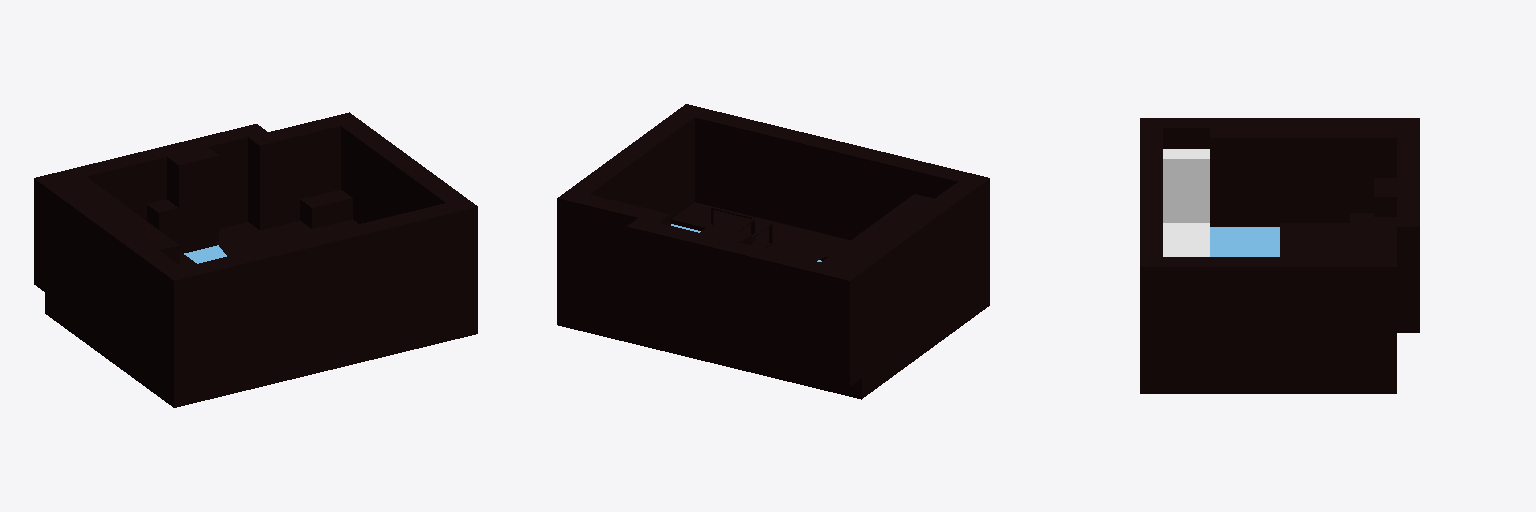
The model's file is portal6.obj.
The picture shows the model from 3 angles: view 1: azimuth 30°, elevation 25°; view 2: azimuth 150°, elevation 25°; view 3: azimuth 270°, elevation 25°; orthographic projection.
Visible parts, largest first — view 1: pCube31, pCube9, pCube28, pCube14, pCube32, pCube15, pCube11, pCube23, pCube8, pasted__pCube22, pasted__pasted__pCube21; view 2: pCube14, pCube31, pCube9, pCube15, pCube28, pCube32, pCube23, pCube8, pCube11; view 3: pCube15, pCube8, pCube31, pCube28, pCube14, pCube9, partBc2, pCube23, pCube27, pCube24, partBc1, pCube10 (+2 smaller).
Part boxes in pixels (left/top/right/bottom): pCube31: left=162, top=198, right=477, bottom=386; pCube9: left=45, top=182, right=181, bottom=377; pCube28: left=45, top=293, right=477, bottom=407; pCube14: left=34, top=124, right=266, bottom=291; pCube32: left=248, top=118, right=340, bottom=229; pCube15: left=329, top=112, right=465, bottom=223; pCube11: left=167, top=147, right=218, bottom=253; pCube23: left=180, top=219, right=357, bottom=266; pCube8: left=90, top=194, right=179, bottom=264; pasted__pCube22: left=300, top=190, right=352, bottom=228; pasted__pasted__pCube21: left=147, top=200, right=178, bottom=243; pCube14: left=627, top=218, right=861, bottom=386; pCube31: left=675, top=104, right=989, bottom=291; pCube9: left=842, top=182, right=978, bottom=377; pCube15: left=557, top=112, right=694, bottom=308; pCube28: left=557, top=285, right=989, bottom=399; pCube32: left=578, top=194, right=670, bottom=320; pCube23: left=671, top=202, right=850, bottom=260; pCube8: left=845, top=194, right=933, bottom=249; pCube11: left=700, top=224, right=751, bottom=244; pCube15: left=1163, top=257, right=1396, bottom=372; pCube8: left=1210, top=128, right=1349, bottom=226; pCube31: left=1140, top=118, right=1162, bottom=372; pCube28: left=1140, top=373, right=1396, bottom=393; pCube14: left=1397, top=118, right=1419, bottom=332; pCube9: left=1163, top=118, right=1396, bottom=212; partBc2: left=1163, top=149, right=1209, bottom=222; pCube23: left=1280, top=213, right=1373, bottom=256; pCube27: left=1210, top=227, right=1279, bottom=256; pCube24: left=1350, top=128, right=1373, bottom=201; partBc1: left=1163, top=223, right=1209, bottom=256; pCube10: left=1374, top=128, right=1396, bottom=177.
Bounding box in the file's own units: 15 × 6 × 12.